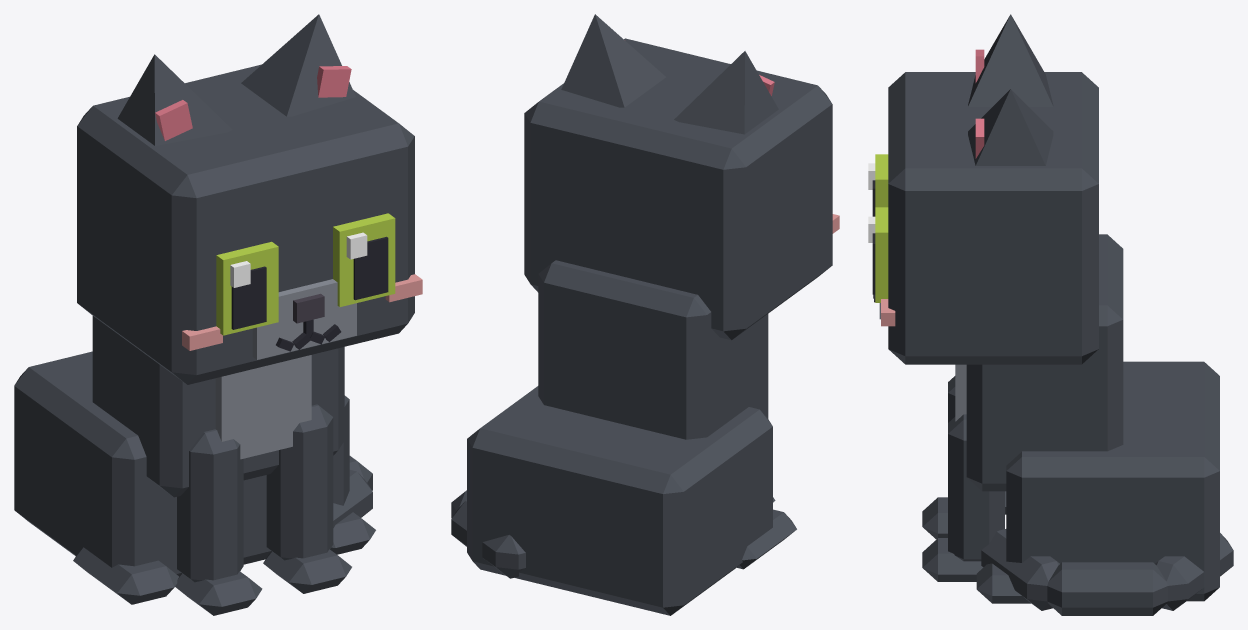
Rendered from CatCafe_Cat_Smoke_Sit.glb.
3 views of the same model, side by side, from view 1: azimuth 30°, elevation 25°; view 2: azimuth 150°, elevation 25°; view 3: azimuth 270°, elevation 25° (orthographic). The views are drawn at different scales.
Parts seen in each view (by area): view 1: CatCafe_Cat_Smoke_Sit_Head, CatCafe_Cat_Smoke_Sit_Body, CatCafe_Cat_Smoke_Sit_LegF2, CatCafe_Cat_Smoke_Sit_LegF1, CatCafe_Cat_Smoke_Sit_EarL, CatCafe_Cat_Smoke_Sit_EarR, CatCafe_Cat_Smoke_Sit_Eye2, CatCafe_Cat_Smoke_Sit_Eye1, CatCafe_Cat_Smoke_Sit_Tail; view 2: CatCafe_Cat_Smoke_Sit_Body, CatCafe_Cat_Smoke_Sit_Head, CatCafe_Cat_Smoke_Sit_EarL, CatCafe_Cat_Smoke_Sit_EarR, CatCafe_Cat_Smoke_Sit_Tail; view 3: CatCafe_Cat_Smoke_Sit_Head, CatCafe_Cat_Smoke_Sit_Body, CatCafe_Cat_Smoke_Sit_Tail, CatCafe_Cat_Smoke_Sit_LegF1, CatCafe_Cat_Smoke_Sit_EarL, CatCafe_Cat_Smoke_Sit_EarR, CatCafe_Cat_Smoke_Sit_Eye1, CatCafe_Cat_Smoke_Sit_LegF2, CatCafe_Cat_Smoke_Sit_Eye2.
Boxes of the visible parts, left/top/right/bottom form: CatCafe_Cat_Smoke_Sit_Head: left=77, top=64, right=422, bottom=384; CatCafe_Cat_Smoke_Sit_Body: left=14, top=316, right=375, bottom=604; CatCafe_Cat_Smoke_Sit_LegF2: left=175, top=429, right=262, bottom=615; CatCafe_Cat_Smoke_Sit_LegF1: left=263, top=404, right=351, bottom=593; CatCafe_Cat_Smoke_Sit_EarL: left=241, top=14, right=355, bottom=116; CatCafe_Cat_Smoke_Sit_EarR: left=117, top=54, right=232, bottom=145; CatCafe_Cat_Smoke_Sit_Eye2: left=216, top=241, right=278, bottom=335; CatCafe_Cat_Smoke_Sit_Eye1: left=333, top=213, right=395, bottom=306; CatCafe_Cat_Smoke_Sit_Tail: left=333, top=456, right=372, bottom=527; CatCafe_Cat_Smoke_Sit_Body: left=467, top=260, right=796, bottom=615; CatCafe_Cat_Smoke_Sit_Head: left=524, top=38, right=839, bottom=340; CatCafe_Cat_Smoke_Sit_EarL: left=561, top=14, right=665, bottom=107; CatCafe_Cat_Smoke_Sit_EarR: left=674, top=51, right=778, bottom=134; CatCafe_Cat_Smoke_Sit_Tail: left=451, top=490, right=525, bottom=578; CatCafe_Cat_Smoke_Sit_Head: left=873, top=72, right=1098, bottom=364; CatCafe_Cat_Smoke_Sit_Body: left=955, top=234, right=1219, bottom=603; CatCafe_Cat_Smoke_Sit_Tail: left=981, top=529, right=1233, bottom=615; CatCafe_Cat_Smoke_Sit_LegF1: left=922, top=414, right=1004, bottom=581; CatCafe_Cat_Smoke_Sit_EarL: left=968, top=89, right=1053, bottom=165; CatCafe_Cat_Smoke_Sit_EarR: left=968, top=14, right=1053, bottom=106; CatCafe_Cat_Smoke_Sit_Eye1: left=868, top=207, right=888, bottom=302; CatCafe_Cat_Smoke_Sit_LegF2: left=922, top=376, right=955, bottom=539; CatCafe_Cat_Smoke_Sit_Eye2: left=868, top=154, right=888, bottom=216.
Bounding box in the file's own units: 1.05 × 1.85 × 1.22.
Materials: 1 (1 with a texture image).
